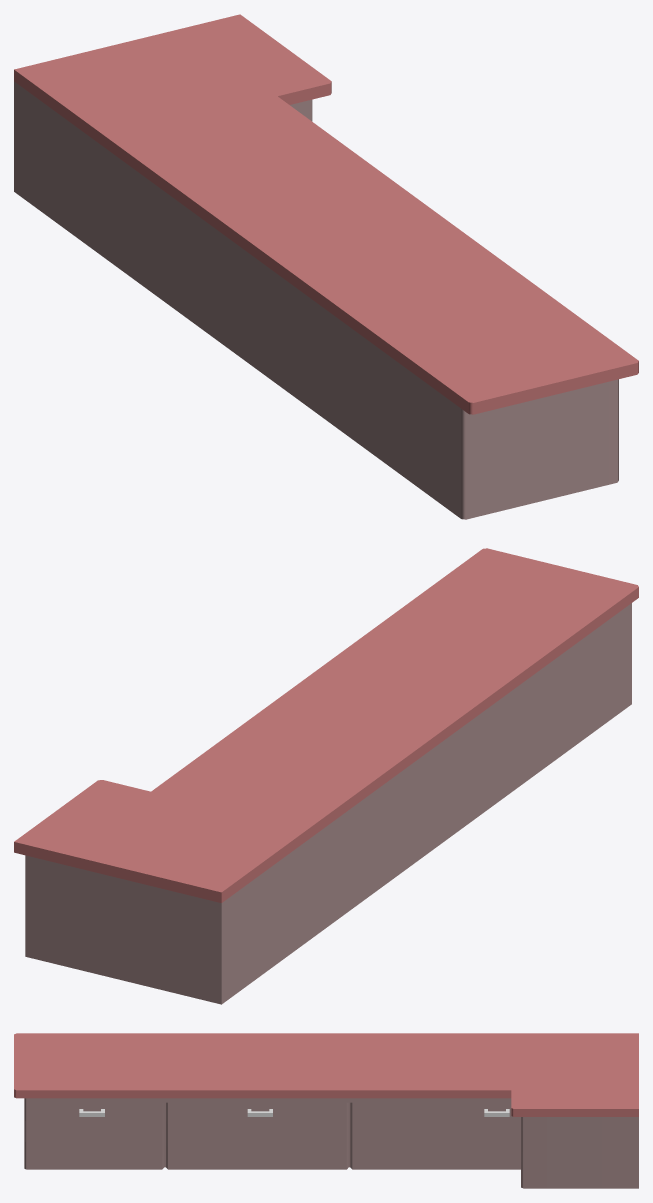
The model's file is kitchen_tumba.fbx.
The picture shows the model from 3 angles, top to bottom: view 1: azimuth 30°, elevation 25°; view 2: azimuth 150°, elevation 25°; view 3: azimuth 270°, elevation 25°; orthographic projection. The views are drawn at different scales.
Parts seen in each view (by area): view 1: tumba; view 2: tumba; view 3: tumba.
Part boxes in pixels (x1,y1,x2,y2): tumba: [14, 14, 638, 519]; tumba: [14, 548, 638, 1004]; tumba: [14, 1033, 638, 1188].
Bounding box in the file's own units: 162 × 83.39 × 565.
